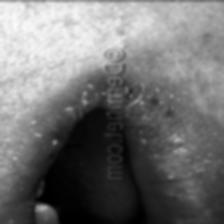Toxin: (122, 79, 173, 119), (66, 85, 96, 117)
